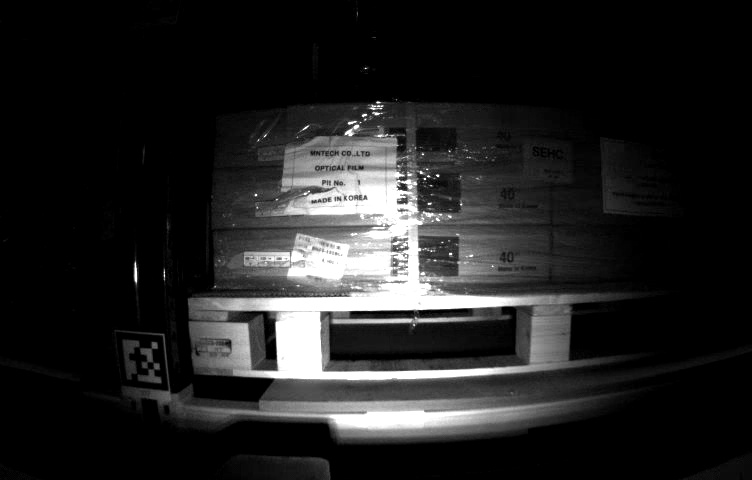True Barcode: (285, 230, 343, 293)
